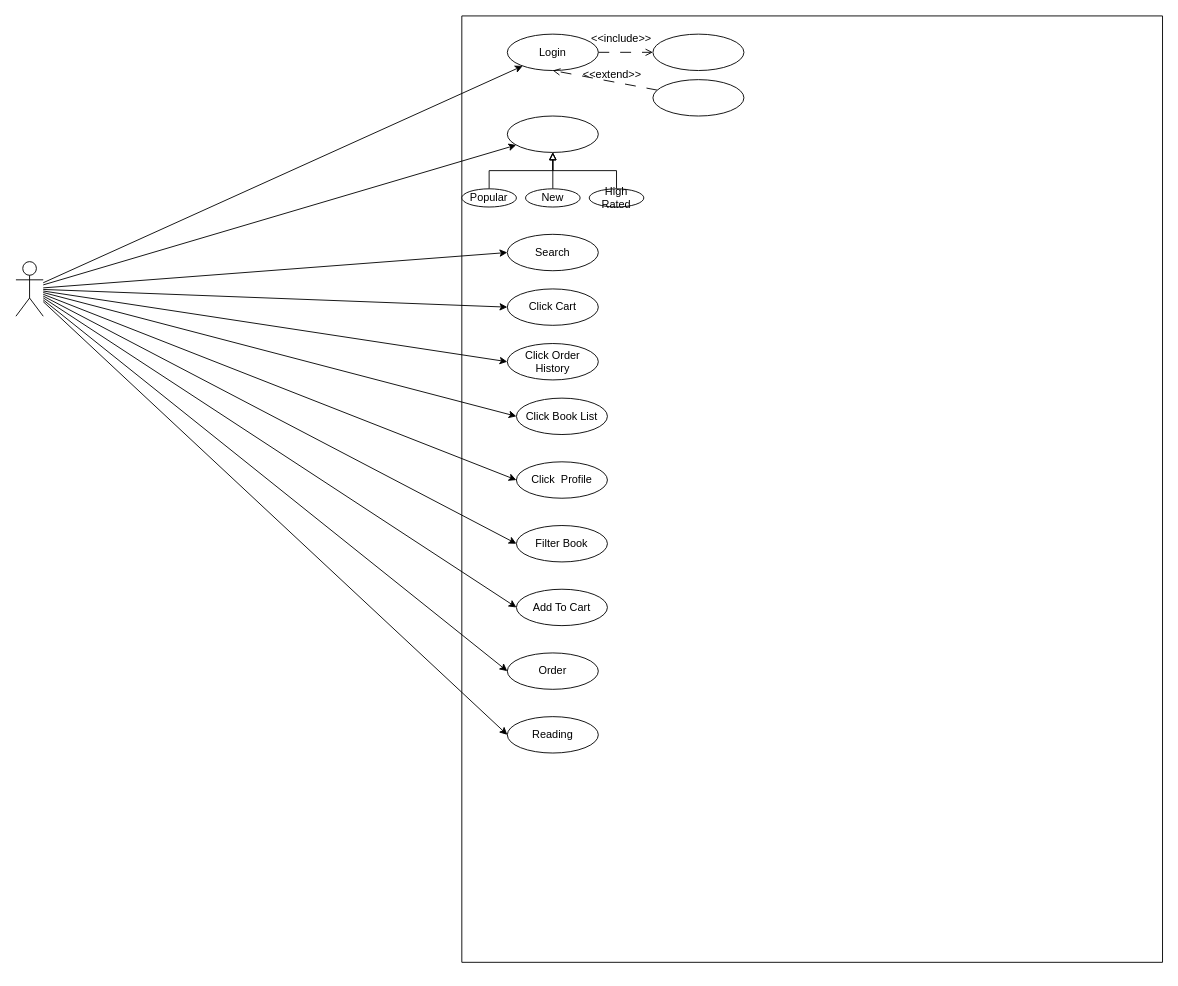
Some shapes in this 1178 by 986 pixel diagram are drawn without their labels. Here are the shapes that lost their labels. From the top down, the box of each, then its label:
(652, 33, 744, 71): Check
(652, 79, 744, 116): Show error
(506, 115, 598, 152): See Book Display
(15, 261, 43, 316): User
